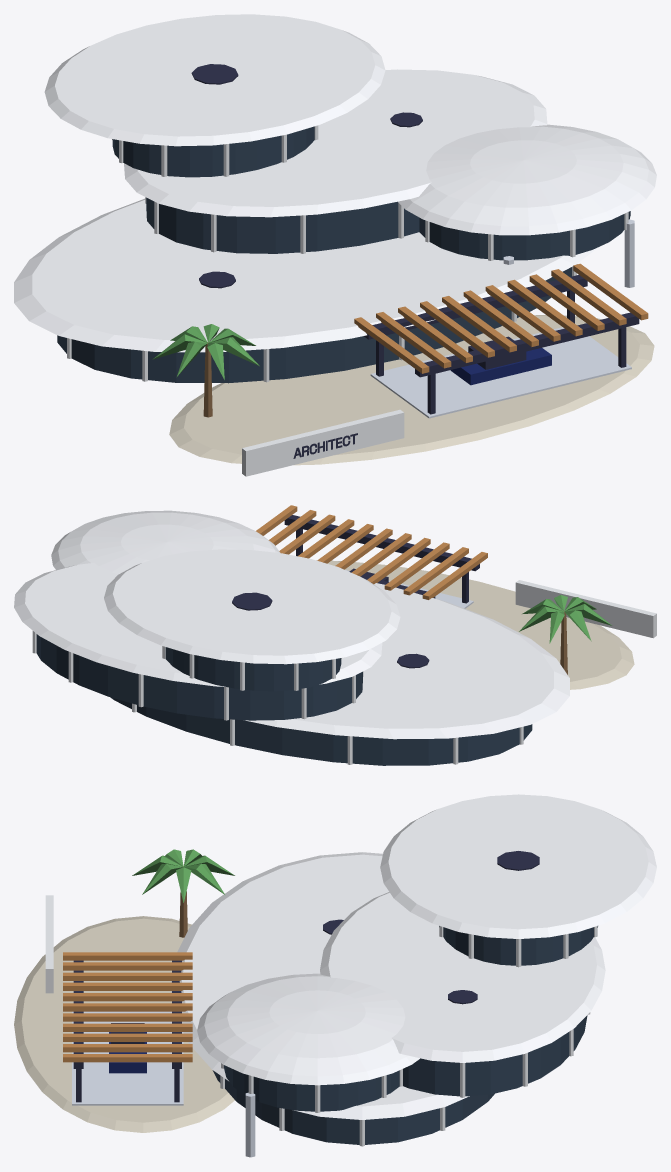
Rendered from architect-office-3x3.glb.
3 renders of one model, top to bottom at view 1: azimuth 30°, elevation 25°; view 2: azimuth 150°, elevation 25°; view 3: azimuth 270°, elevation 25°, orthographic. The views are drawn at different scales.
Parts seen in each view (by area): view 1: architect-office-3x3; view 2: architect-office-3x3; view 3: architect-office-3x3.
Boxes of the visible parts, x1,y1,x2,y2 form: architect-office-3x3: [14, 14, 656, 476]; architect-office-3x3: [14, 505, 656, 765]; architect-office-3x3: [14, 794, 656, 1157].
Size of the model in its own units: 2.9 by 0.828 by 2.88.
Materials: 1 (1 with a texture image).
